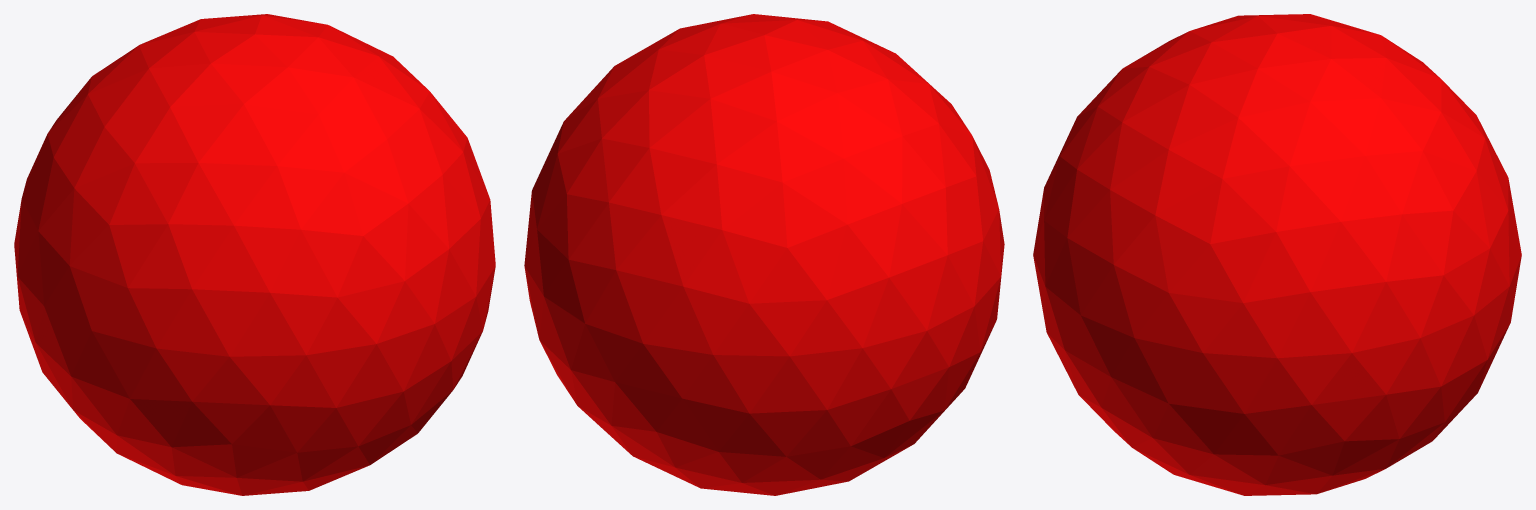
Rendered from BombEffect.FBX.
3 renders of one model, left to right at view 1: azimuth 30°, elevation 25°; view 2: azimuth 150°, elevation 25°; view 3: azimuth 270°, elevation 25°, orthographic.
Visible parts, largest first — view 1: VIFS001; view 2: VIFS001; view 3: VIFS001.
Part boxes in pixels (box(x1,y1,x2,y2)): VIFS001: box(14, 14, 495, 495); VIFS001: box(524, 14, 1004, 495); VIFS001: box(1033, 14, 1521, 495).
Bounding box in the file's own units: 0.4 × 0.4 × 0.4.
